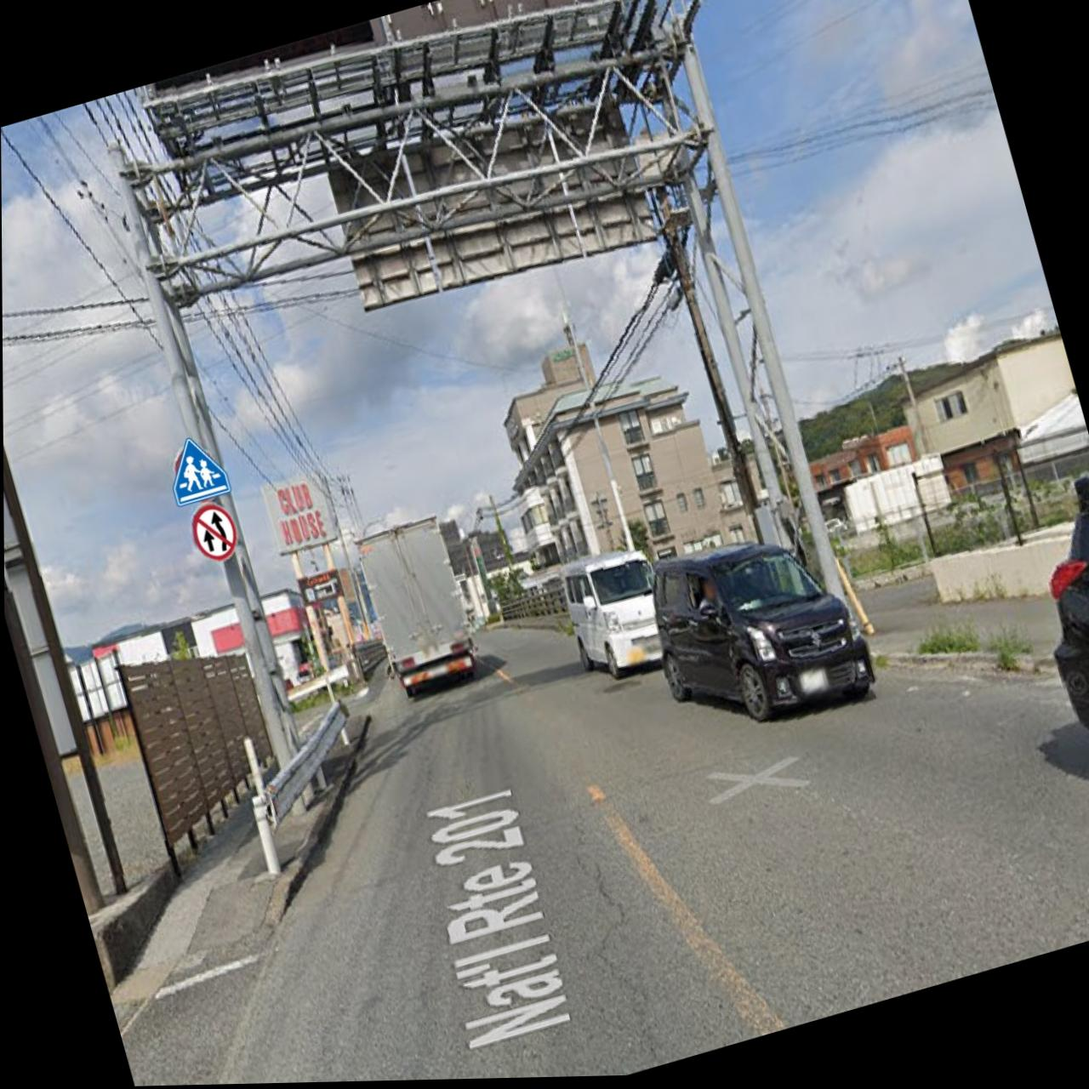cone: (83, 235, 261, 739)
